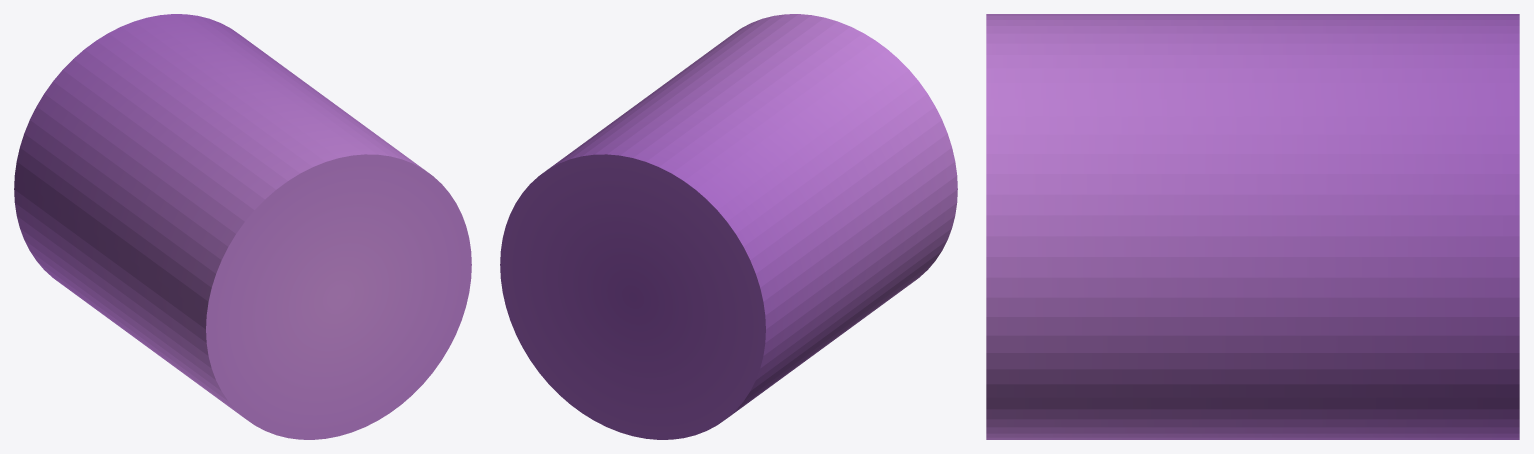
Rendered from tabung.glb.
The picture shows the model from 3 angles, left to right: view 1: azimuth 30°, elevation 25°; view 2: azimuth 150°, elevation 25°; view 3: azimuth 270°, elevation 25°; orthographic projection. The views are drawn at different scales.
Parts seen in each view (by area): view 1: world; view 2: world; view 3: world.
Boxes of the visible parts, box(x1,y1,x2,y2) form: world: box(14, 14, 471, 439); world: box(500, 14, 957, 439); world: box(986, 14, 1519, 439).
Size of the model in its own units: 0.8 by 0.8 by 1.
